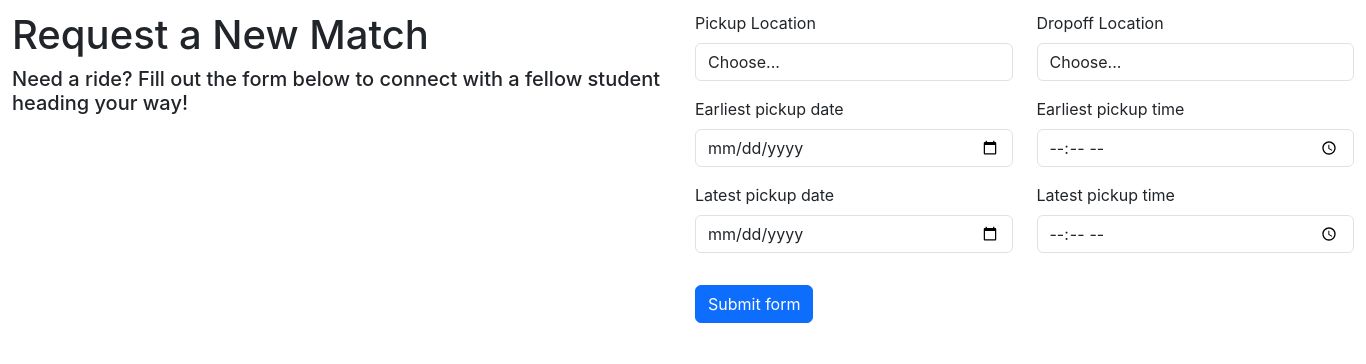
Invalid date form test - fail › date in the past, checking for warning popup
Select "Allison" in the dropdown with test id "pickupLoc" at (854, 62), box [695,43,1012,81]
Select "Midway" in the dropdown with test id "dropoffLoc" at (1195, 62), box [1036,43,1354,81]
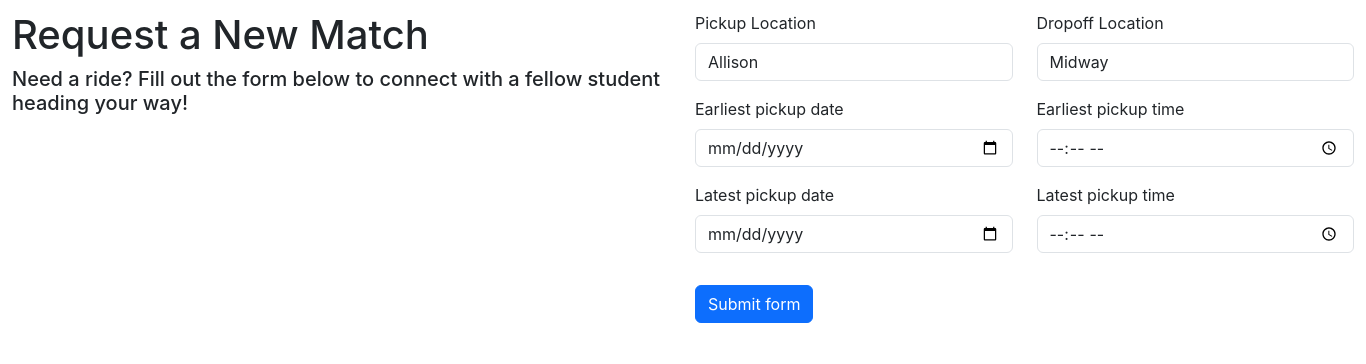
Type "2023-01-01" into the date field with test id "pickupDateE".
click(854, 148); type("2023-01-01")  # box [695,129,1012,167]
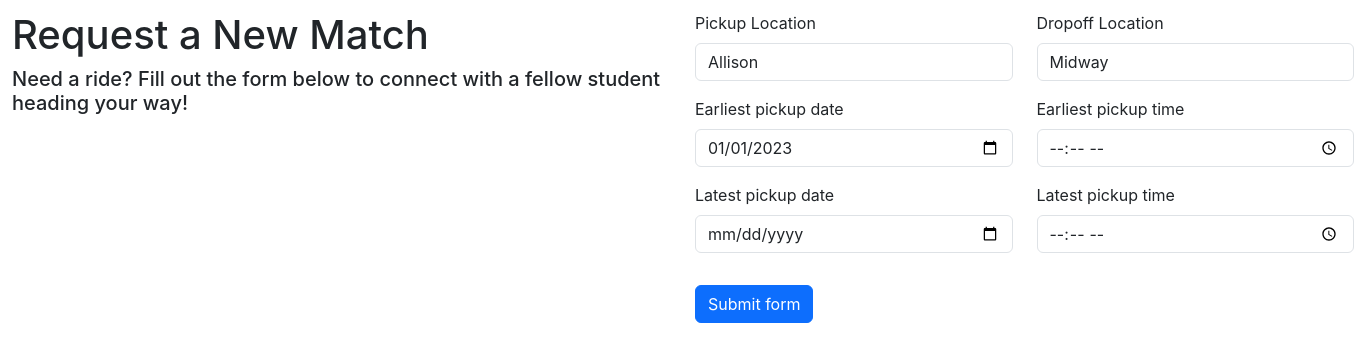
Type "14:00" into the time field with test id "pickupTimeE".
click(1195, 148); type("14:00")  # box [1036,129,1354,167]
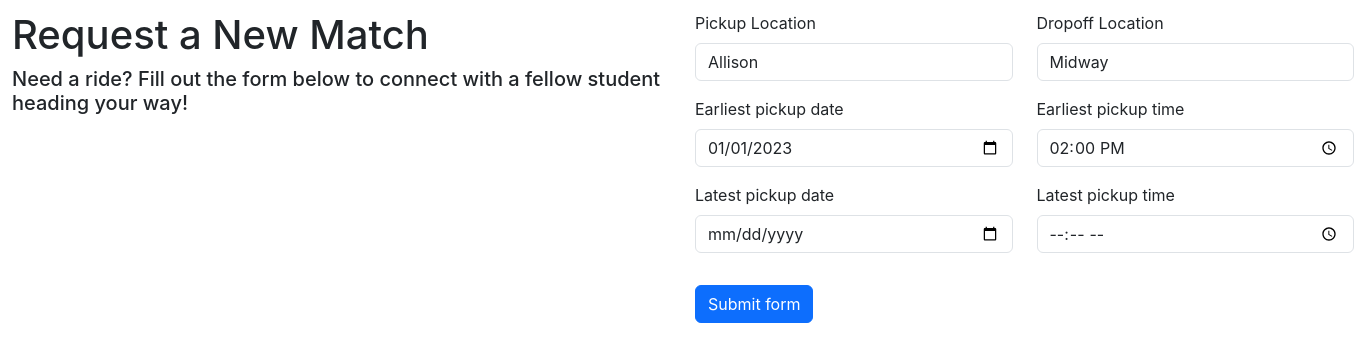
Type "2025-01-01" into the date field with test id "pickupDateL".
click(854, 234); type("2025-01-01")  # box [695,215,1012,253]
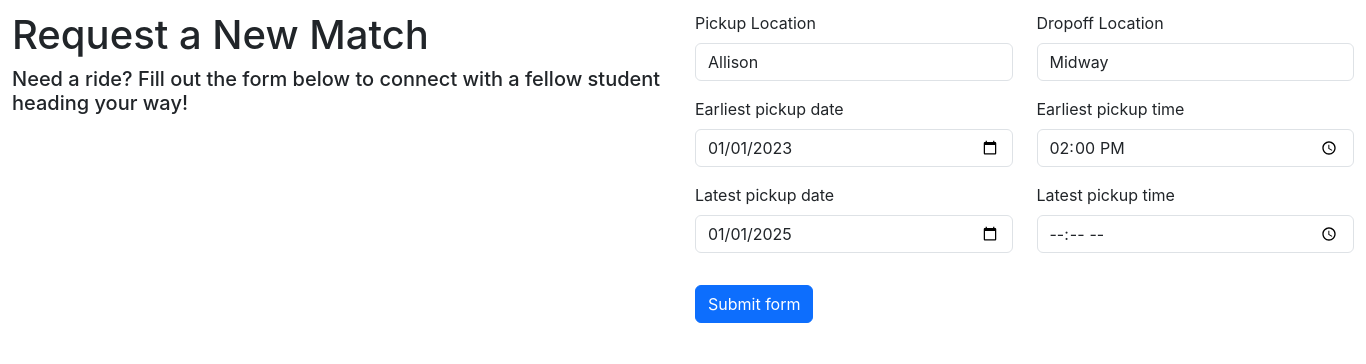
Type "16:00" into the time field with test id "pickupTimeL".
click(1195, 234); type("16:00")  # box [1036,215,1354,253]
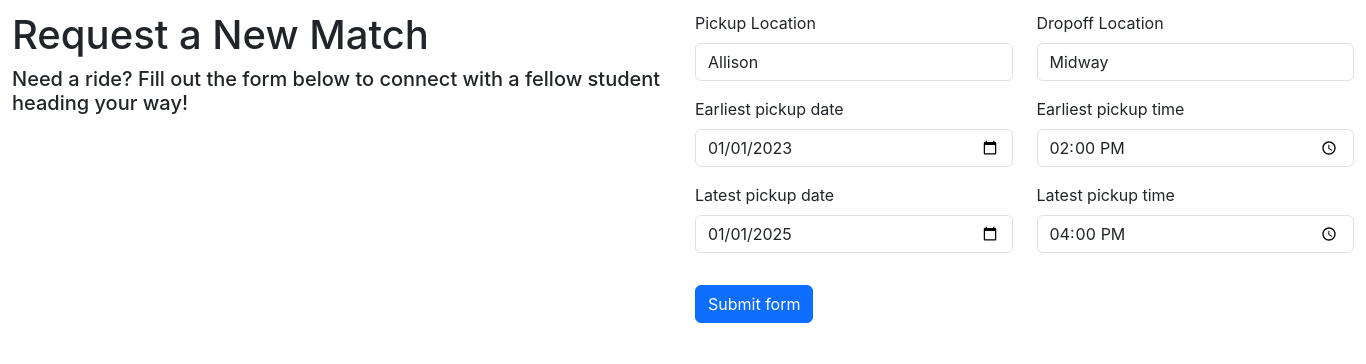
Click the button with test id "submit-button".
click(754, 304)  # box [695,285,814,323]
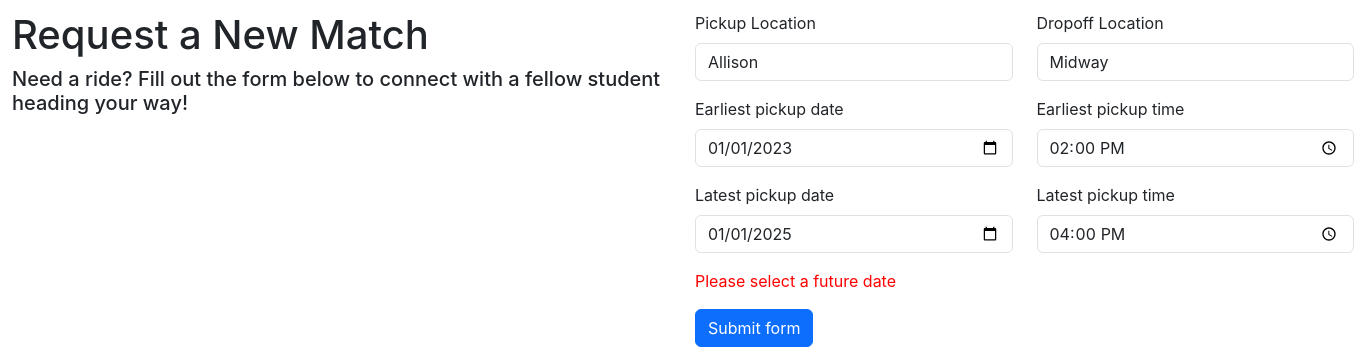
Now the text "Please select a future date" is shown, box [695,271,896,291]
